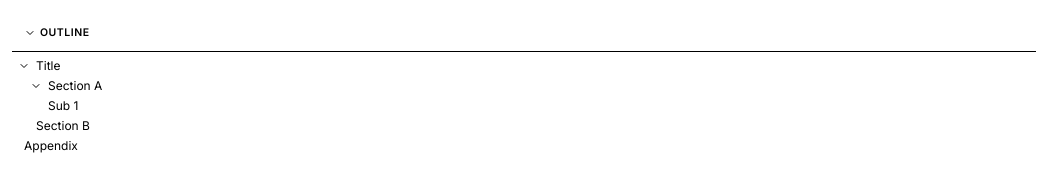
Scenario: OutlinePanel › per-node collapse state is preserved when nodes reference changes but resetKey is stable (live re-parse)
Click the button named "Toggle Title".
click(24, 66)  # box [16,58,32,74]
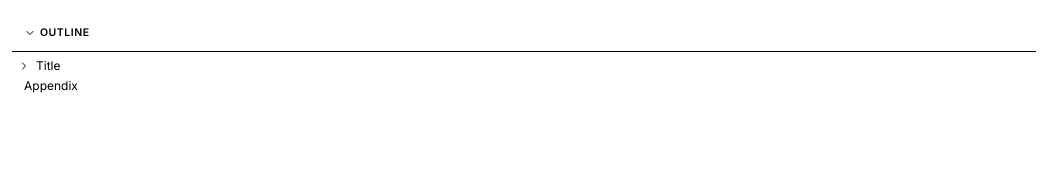
expect the button "Section A" is gone: met
